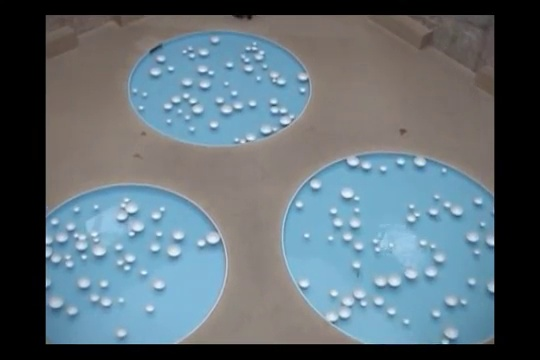bowl: (205, 230, 221, 245), (442, 327, 460, 340), (48, 295, 65, 308), (464, 229, 479, 243), (404, 265, 419, 279), (374, 275, 389, 289), (129, 219, 145, 232), (166, 245, 183, 257), (345, 154, 359, 168), (325, 311, 339, 325), (171, 228, 186, 241), (55, 231, 70, 244), (153, 278, 167, 291), (413, 155, 427, 168), (445, 294, 458, 308), (92, 245, 107, 257), (340, 186, 355, 198), (337, 307, 352, 319), (433, 251, 446, 264), (148, 66, 162, 78), (100, 297, 114, 309), (424, 266, 438, 278), (298, 278, 312, 290), (219, 104, 234, 115), (64, 306, 79, 317), (388, 275, 403, 286), (115, 210, 129, 221), (484, 233, 495, 247), (372, 296, 386, 307), (341, 295, 355, 306), (297, 70, 309, 82), (451, 204, 463, 216), (310, 178, 322, 190), (260, 124, 273, 135), (115, 327, 128, 338), (75, 241, 88, 252), (77, 277, 90, 288), (360, 160, 373, 171), (472, 196, 485, 207), (198, 79, 210, 90), (430, 308, 442, 319), (350, 216, 361, 228), (354, 288, 366, 299), (191, 104, 204, 114), (279, 115, 291, 125), (150, 211, 162, 221), (126, 203, 138, 213), (395, 157, 407, 167), (487, 278, 495, 293), (50, 254, 63, 263), (245, 131, 256, 141), (233, 100, 244, 110), (89, 293, 100, 303), (353, 242, 364, 252), (386, 307, 397, 317), (225, 60, 235, 70), (209, 120, 219, 130), (329, 288, 339, 298), (198, 63, 207, 74), (195, 237, 206, 246), (149, 243, 160, 252), (406, 214, 417, 223), (171, 96, 183, 104), (124, 255, 136, 263), (66, 224, 78, 232), (46, 234, 54, 246), (428, 208, 440, 216), (344, 230, 352, 242), (244, 63, 253, 73), (472, 248, 481, 258), (467, 276, 476, 286), (352, 261, 362, 270), (182, 78, 193, 86), (145, 305, 156, 313), (214, 95, 223, 104), (181, 91, 190, 100), (50, 216, 59, 225), (379, 165, 388, 174), (269, 70, 279, 78), (276, 77, 286, 85), (270, 106, 280, 114), (166, 65, 176, 73), (334, 218, 342, 228), (246, 100, 257, 107), (46, 246, 53, 257), (78, 232, 87, 240), (100, 280, 108, 289), (460, 297, 468, 306), (297, 87, 307, 94), (162, 103, 172, 110), (130, 87, 138, 95), (123, 264, 131, 272), (67, 261, 75, 269), (440, 166, 448, 174), (295, 200, 303, 208), (360, 299, 368, 307), (189, 97, 198, 104), (137, 103, 146, 110), (114, 243, 123, 250), (139, 269, 148, 276), (479, 219, 486, 228), (402, 319, 411, 326), (46, 276, 51, 288), (439, 339, 451, 344), (326, 236, 336, 242), (262, 62, 269, 70), (270, 98, 278, 105), (142, 91, 150, 98), (92, 203, 100, 210), (80, 253, 88, 260), (407, 203, 415, 210), (419, 239, 427, 246), (329, 207, 337, 214), (155, 230, 164, 236), (126, 230, 135, 236), (371, 238, 380, 244), (255, 75, 262, 82), (222, 80, 229, 87), (119, 297, 126, 304), (434, 193, 441, 200), (303, 233, 310, 240), (64, 254, 72, 260), (443, 202, 451, 208), (271, 76, 277, 83), (289, 113, 296, 119), (281, 108, 288, 114), (233, 137, 240, 143), (230, 90, 237, 96), (73, 206, 79, 213), (165, 119, 173, 124), (159, 206, 167, 211), (207, 70, 213, 76), (273, 126, 279, 132), (188, 125, 194, 131), (92, 230, 98, 236), (94, 237, 100, 243), (123, 197, 130, 202), (116, 260, 123, 265), (73, 232, 80, 237), (415, 212, 422, 217), (429, 244, 436, 249), (353, 196, 360, 201), (240, 137, 245, 143), (177, 108, 183, 113), (121, 203, 127, 208), (353, 207, 359, 212), (184, 115, 191, 119), (376, 246, 380, 253), (491, 207, 494, 216), (182, 50, 186, 52)
bowlw: (210, 36, 220, 43), (199, 48, 208, 55), (156, 55, 165, 62), (255, 54, 262, 60), (259, 49, 265, 55), (188, 53, 195, 58), (252, 47, 258, 51), (188, 46, 193, 50), (246, 46, 251, 50), (244, 57, 249, 61), (241, 54, 245, 58), (252, 42, 257, 45)
